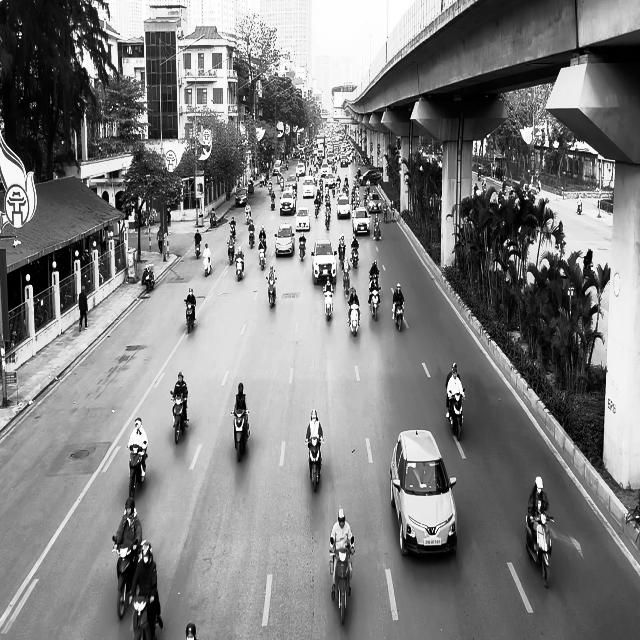car: (390, 428, 458, 557), (311, 238, 337, 284), (274, 222, 295, 256), (352, 207, 370, 235), (279, 190, 296, 215), (294, 206, 310, 231), (336, 196, 351, 218), (235, 187, 248, 206)
motorbike: (329, 536, 355, 625), (112, 534, 138, 620), (525, 511, 554, 588), (130, 591, 159, 639), (128, 442, 147, 498), (230, 410, 250, 462), (170, 390, 188, 444), (447, 390, 465, 441), (306, 437, 322, 492), (347, 299, 360, 336), (184, 300, 196, 332), (368, 287, 380, 319), (323, 282, 333, 320), (392, 301, 404, 331), (266, 274, 276, 308), (142, 264, 154, 292), (235, 256, 244, 281), (202, 254, 212, 276), (258, 243, 266, 270), (227, 240, 235, 264), (298, 238, 306, 260), (351, 245, 358, 268), (248, 227, 255, 248), (324, 207, 330, 229), (195, 240, 201, 258)
